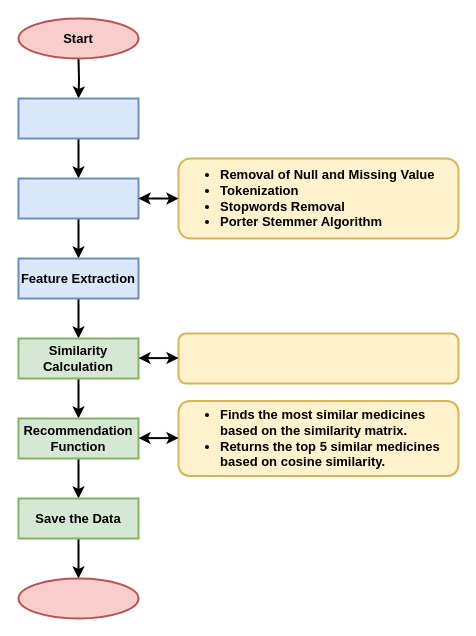
This 476x636 diagram has some shape labels left out. Here are the shapes that lost their labels. From the top down, the centre of each, then its label:
point 78,118: Data Loading
point 78,198: Data Preprocessing
point 318,358: Calculate cosine similarity between feature vectors of medicines
point 78,598: End
